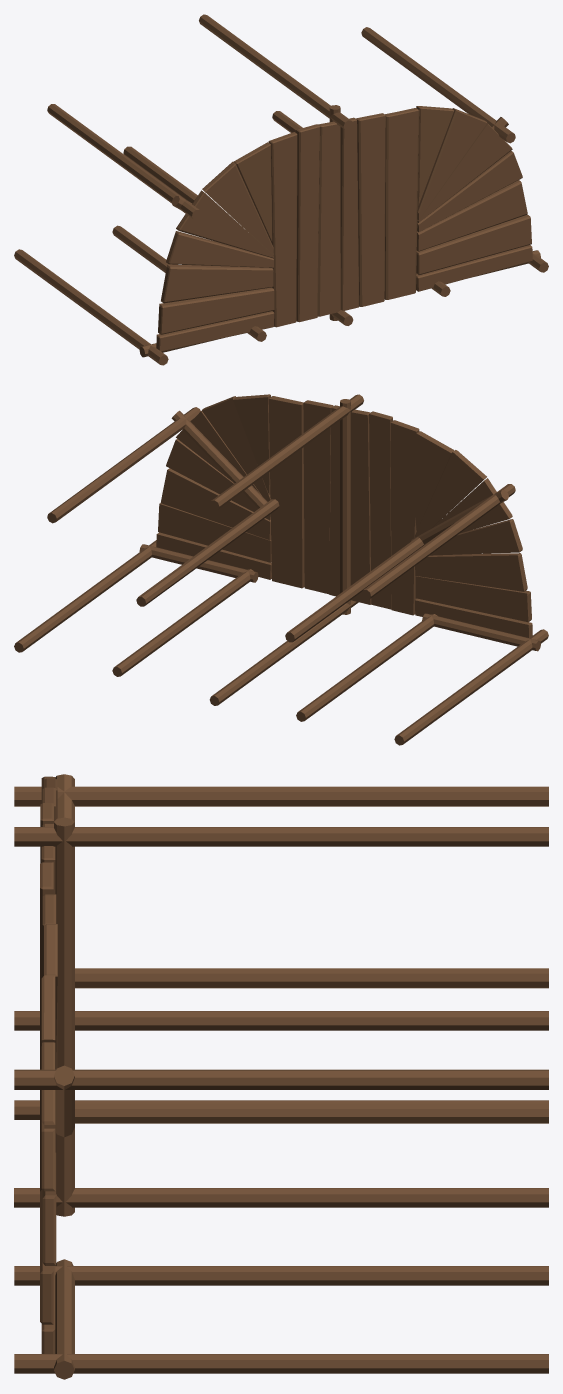
Rendered from Dock_03_Platform 1.fbx.
3 views of the same model, one above another, from view 1: azimuth 30°, elevation 25°; view 2: azimuth 150°, elevation 25°; view 3: azimuth 270°, elevation 25° (orthographic). The views are drawn at different scales.
Parts seen in each view (by area): view 1: ponton_3.plateforme; view 2: ponton_3.plateforme; view 3: ponton_3.plateforme.
Part boxes in pixels (x1,y1,x2,y2): ponton_3.plateforme: (14, 14, 548, 365); ponton_3.plateforme: (14, 394, 548, 745); ponton_3.plateforme: (14, 774, 548, 1379).
Size of the model in its own units: 439 by 224 by 278.
